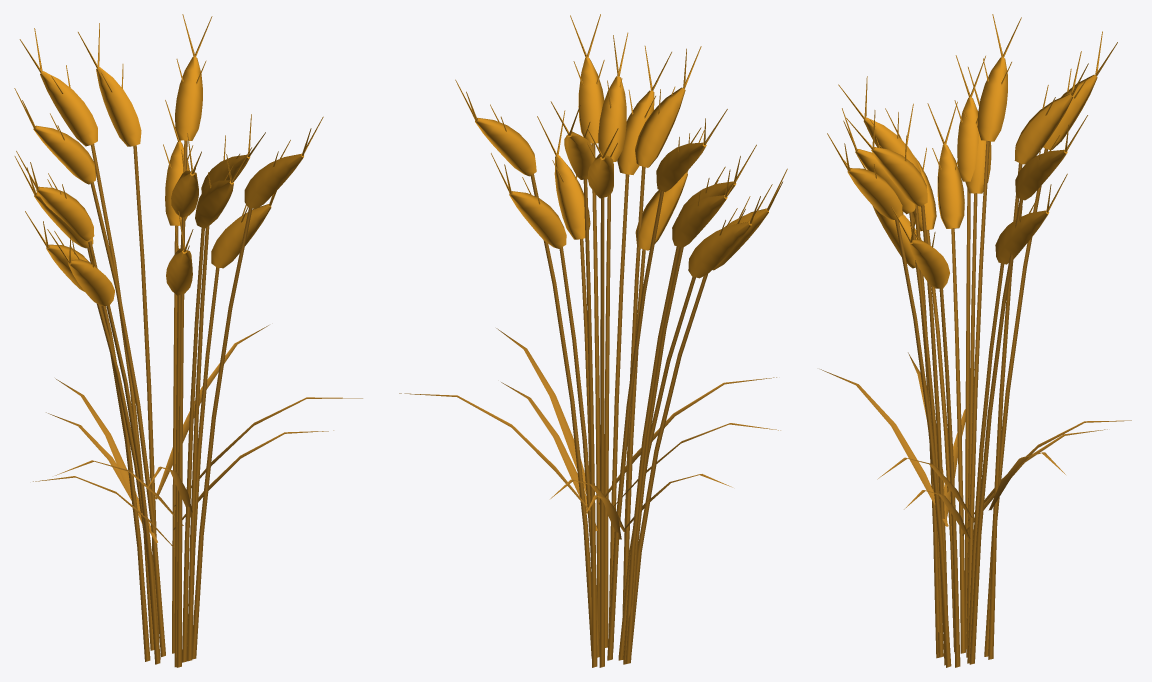
The model's file is Wheat_4.obj.
The picture shows the model from 3 angles, left to right: view 1: azimuth 30°, elevation 25°; view 2: azimuth 150°, elevation 25°; view 3: azimuth 270°, elevation 25°; orthographic projection. The views are drawn at different scales.
Visible parts, largest first — view 1: Wheat_4; view 2: Wheat_4; view 3: Wheat_4.
Boxes of the visible parts, x1,y1,x2,y2 form: Wheat_4: [14, 14, 362, 667]; Wheat_4: [399, 14, 787, 667]; Wheat_4: [820, 14, 1131, 667].
Bounding box in the file's own units: 0.6941 × 1.29 × 0.6367.
